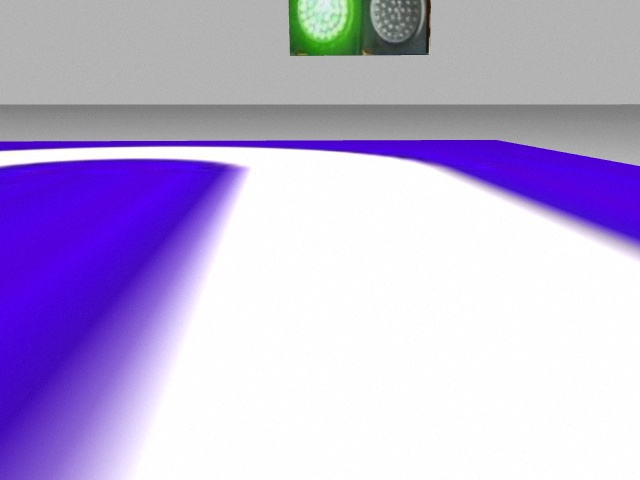green: (288, 1, 364, 55)
